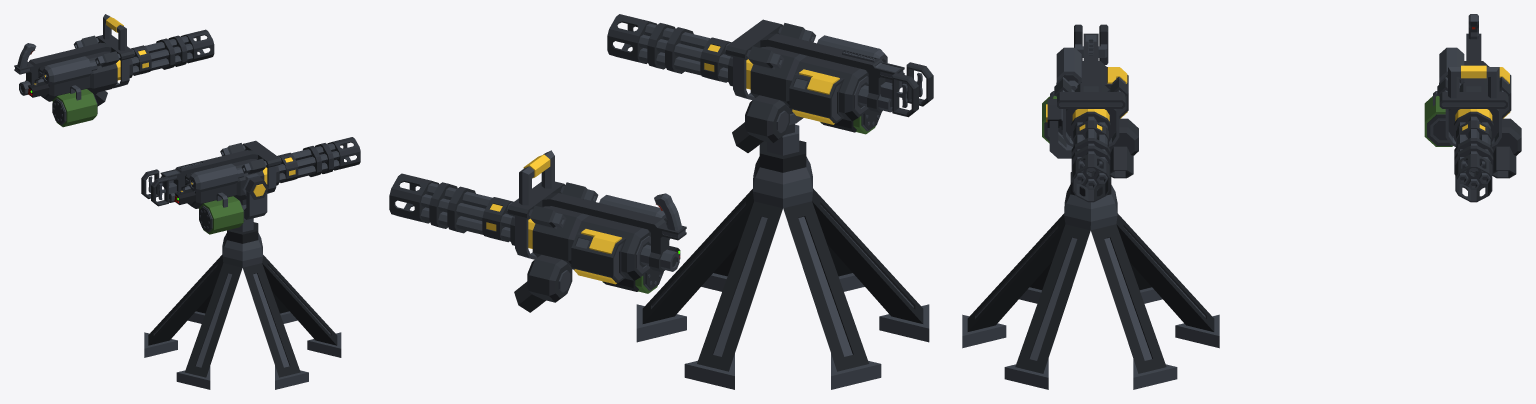
File: Handheld and turret Minigun.fbx
3 views of the same model, side by side, from view 1: azimuth 30°, elevation 25°; view 2: azimuth 150°, elevation 25°; view 3: azimuth 270°, elevation 25° (orthographic). The views are drawn at different scales.
Parts seen in each view (by area): view 1: minigun body turret, minigun body handheld, barrel of handheld minigun, barrel of handheld minigun.001; view 2: minigun body turret, minigun body handheld, barrel of handheld minigun.001, barrel of handheld minigun; view 3: minigun body turret, minigun body handheld, barrel of handheld minigun, barrel of handheld minigun.001.
Boxes of the visible parts, x1,y1,x2,y2 form: minigun body turret: (141,140,341,389); minigun body handheld: (14,14,134,127); barrel of handheld minigun: (116,29,214,80); barrel of handheld minigun.001: (263,137,360,185); minigun body turret: (636,19,933,389); minigun body handheld: (507,150,686,312); barrel of handheld minigun.001: (607,14,753,89); barrel of handheld minigun: (389,173,535,248); minigun body turret: (962,24,1219,389); minigun body handheld: (1424,14,1521,178); barrel of handheld minigun: (1454,109,1493,202); barrel of handheld minigun.001: (1071,109,1110,202).
Size of the model in its own units: 1121 by 1129 by 2016.
